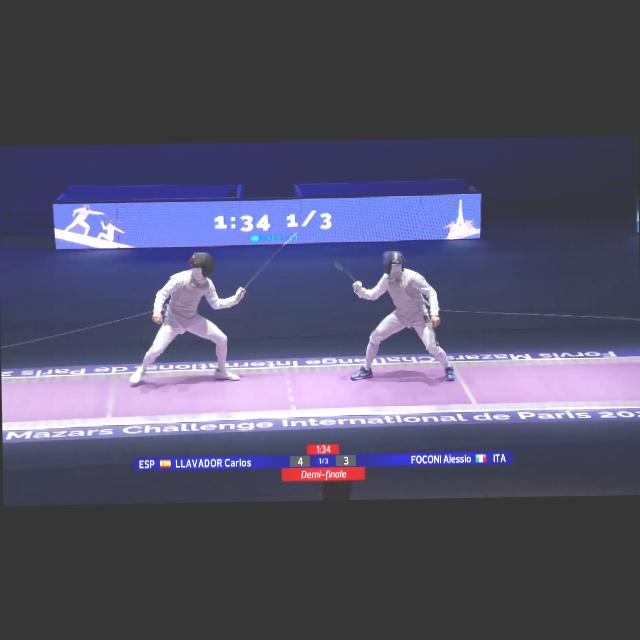blade: (234, 228, 300, 298), (332, 258, 366, 294)
